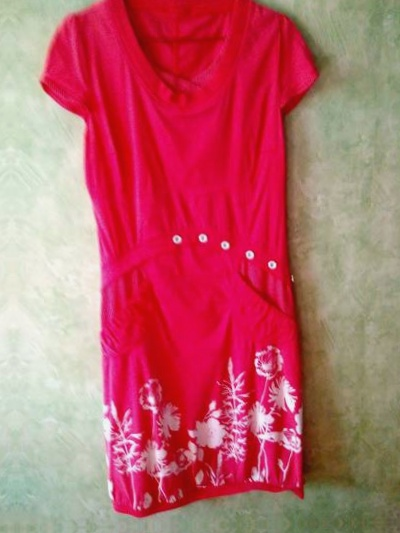Dress: (54, 0, 360, 522), (63, 530, 369, 533)
